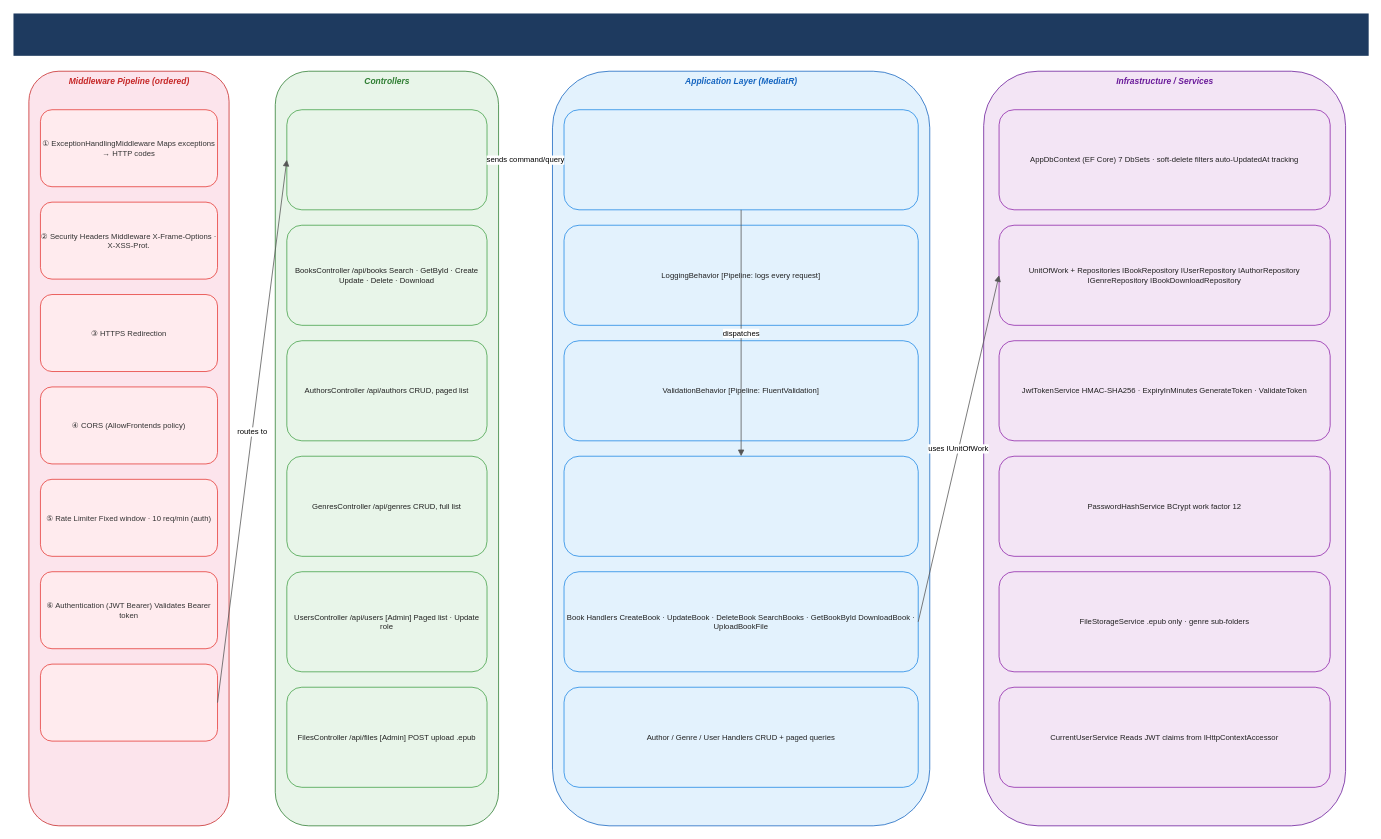
The diagram is 1381 pixels wide and 839 high, and some of its shapes have lost their labels. The shapes that lost their labels are listed below. From the top down, each one's centre as x and y in pixels, then its label:
(690,34): EBook Library — Component Diagram: Web API (C4 Level 3)
(386,159): AuthController /api/auth POST register · POST login
(740,159): MediatR ISender [Command / Query dispatcher]
(740,505): Auth Handlers RegisterUserCommand · LoginUserCommand GetCurrentUserQuery
(129,702): ⑦ Authorization [Authorize] / Roles="Admin"
